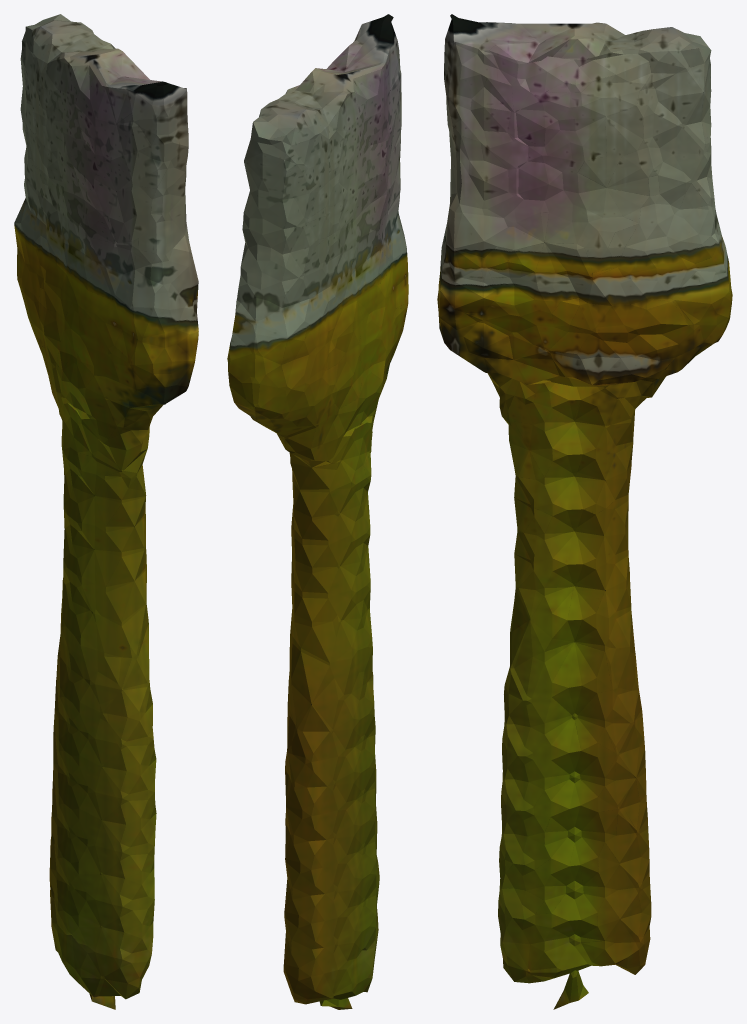
Rendered from brush.glb.
3 renders of one model, left to right at view 1: azimuth 30°, elevation 25°; view 2: azimuth 150°, elevation 25°; view 3: azimuth 270°, elevation 25°, orthographic. The views are drawn at different scales.
Visible parts, largest first — view 1: brush; view 2: brush; view 3: brush.
Boxes of the visible parts, <box> form: brush: <box>14,14,198,1009</box>; brush: <box>227,14,408,1009</box>; brush: <box>437,14,732,1009</box>.
Size of the model in its own units: 0.082 by 0.8056 by 0.2169.
Materials: 1 (1 with a texture image).
